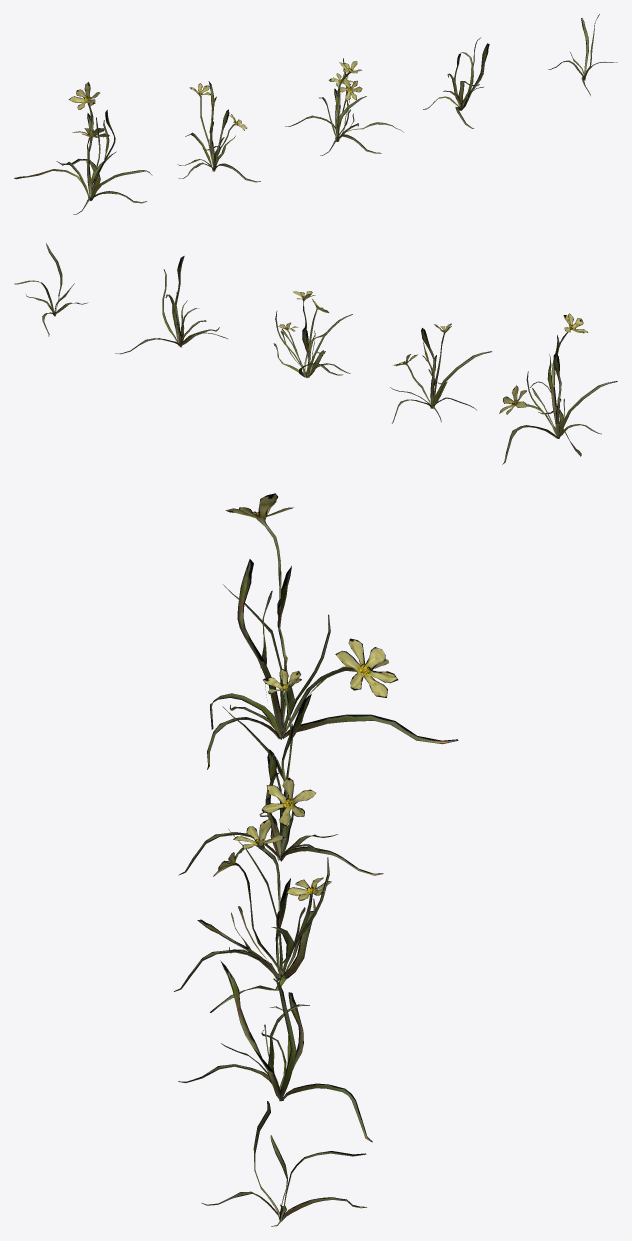
The model's file is empodium.glb.
3 views of the same model, one above another, from view 1: azimuth 30°, elevation 25°; view 2: azimuth 150°, elevation 25°; view 3: azimuth 270°, elevation 25° (orthographic). The views are drawn at different scales.
Visible parts, largest first — view 1: flower_empodium_a_LOD0; view 2: flower_empodium_a_LOD0; view 3: flower_empodium_a_LOD0.
Part boxes in pixels (x1=…): flower_empodium_a_LOD0: x1=14, y1=14, x2=617, y2=214; flower_empodium_a_LOD0: x1=14, y1=243, x2=617, y2=464; flower_empodium_a_LOD0: x1=174, y1=493, x2=458, y2=1226.
Size of the model in its own units: 1.32 by 0.2684 by 0.2841.
Materials: 1 (1 with a texture image).
